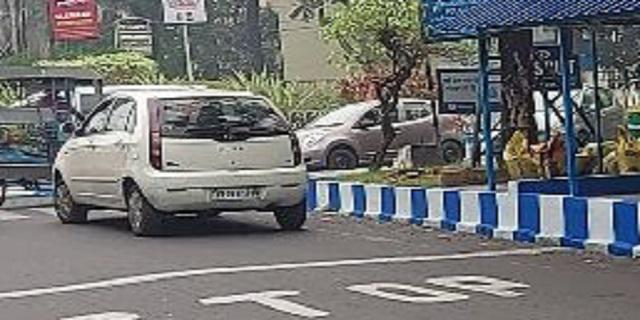Car: (53, 87, 319, 234)
